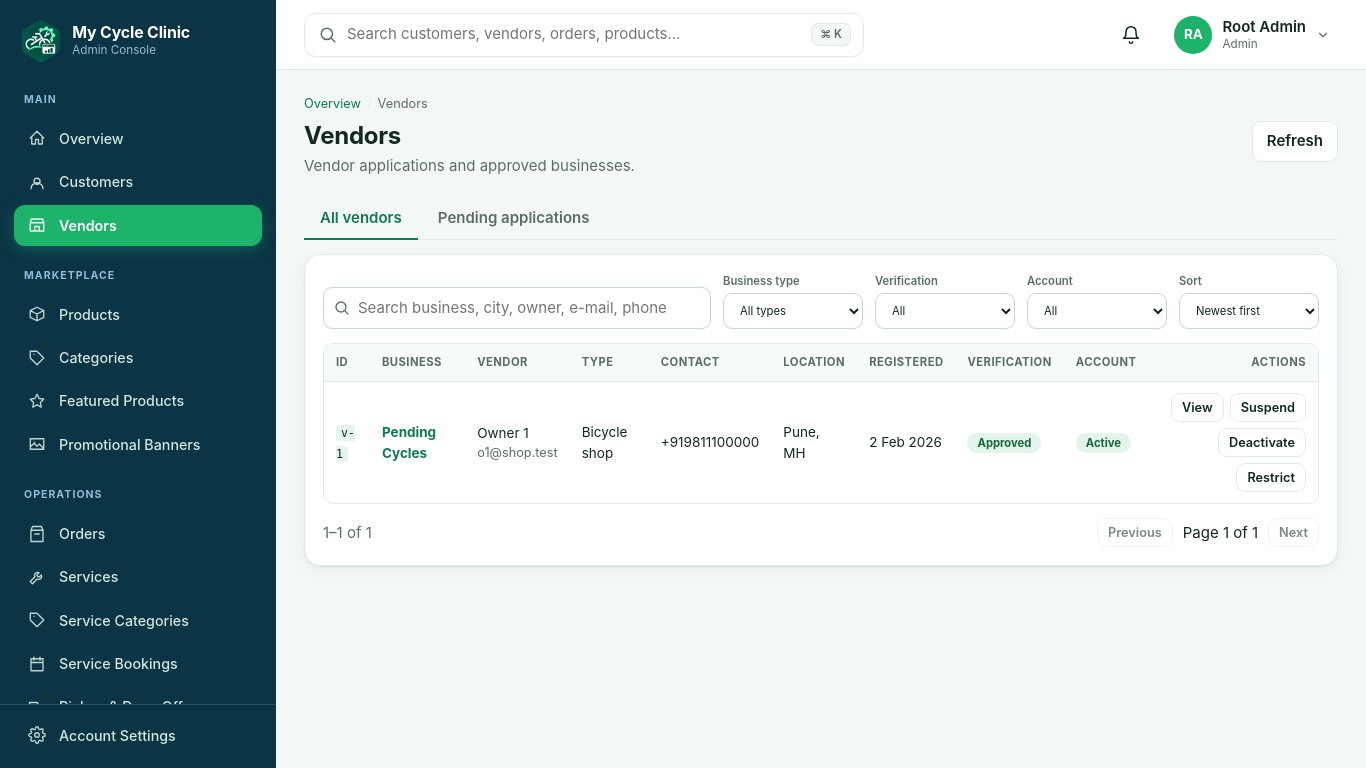
Test: vendor decisions › suspend needs a reason; a forbidden answer is surfaced, not hidden
This screenshot has width=1366, height=768.
Click the button "Suspend": (1268,407) [1230,393,1306,422]
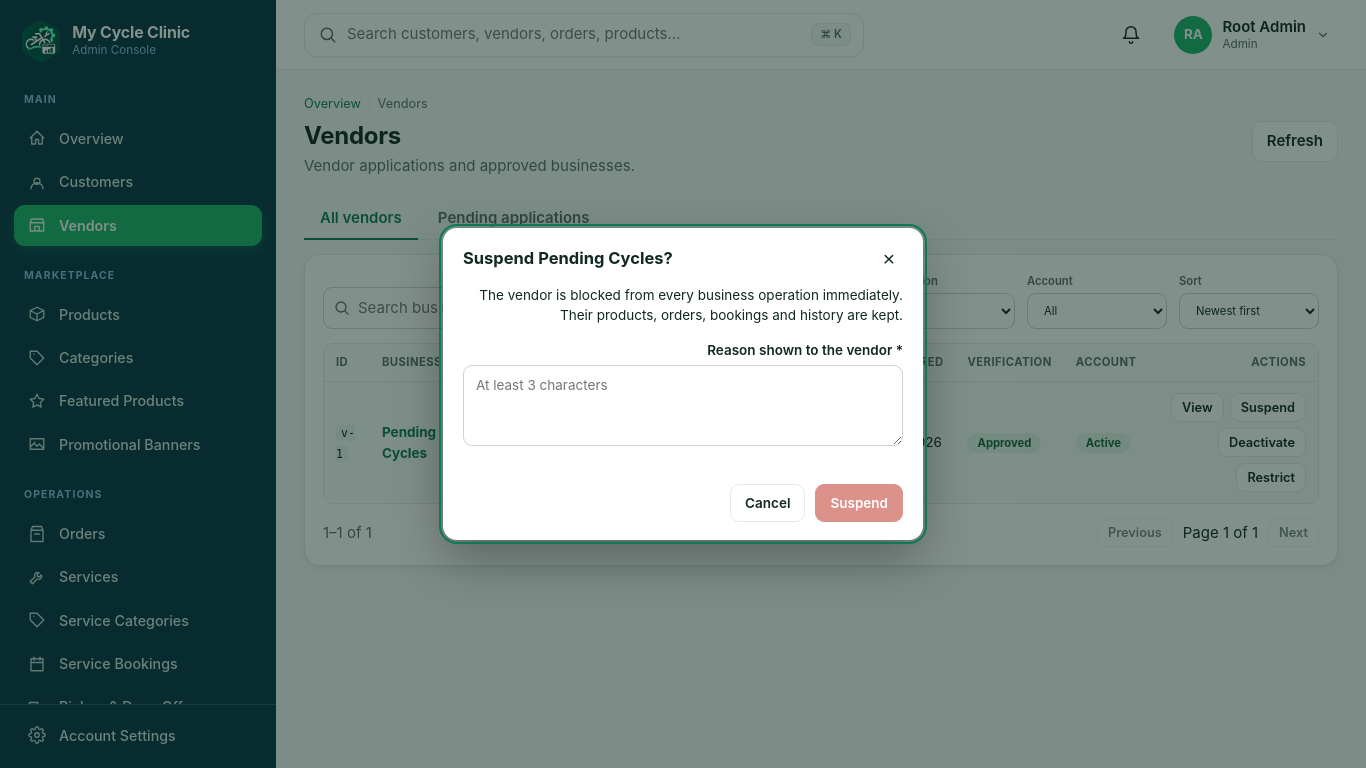
Expected: the button "Suspend" below "Reason shown to the vendor" is disabled, [815,484,903,522]
In the text box labelled "Reason shown to the vendor *": (683,405) [463,365,903,446], type "Counterfeit parts"
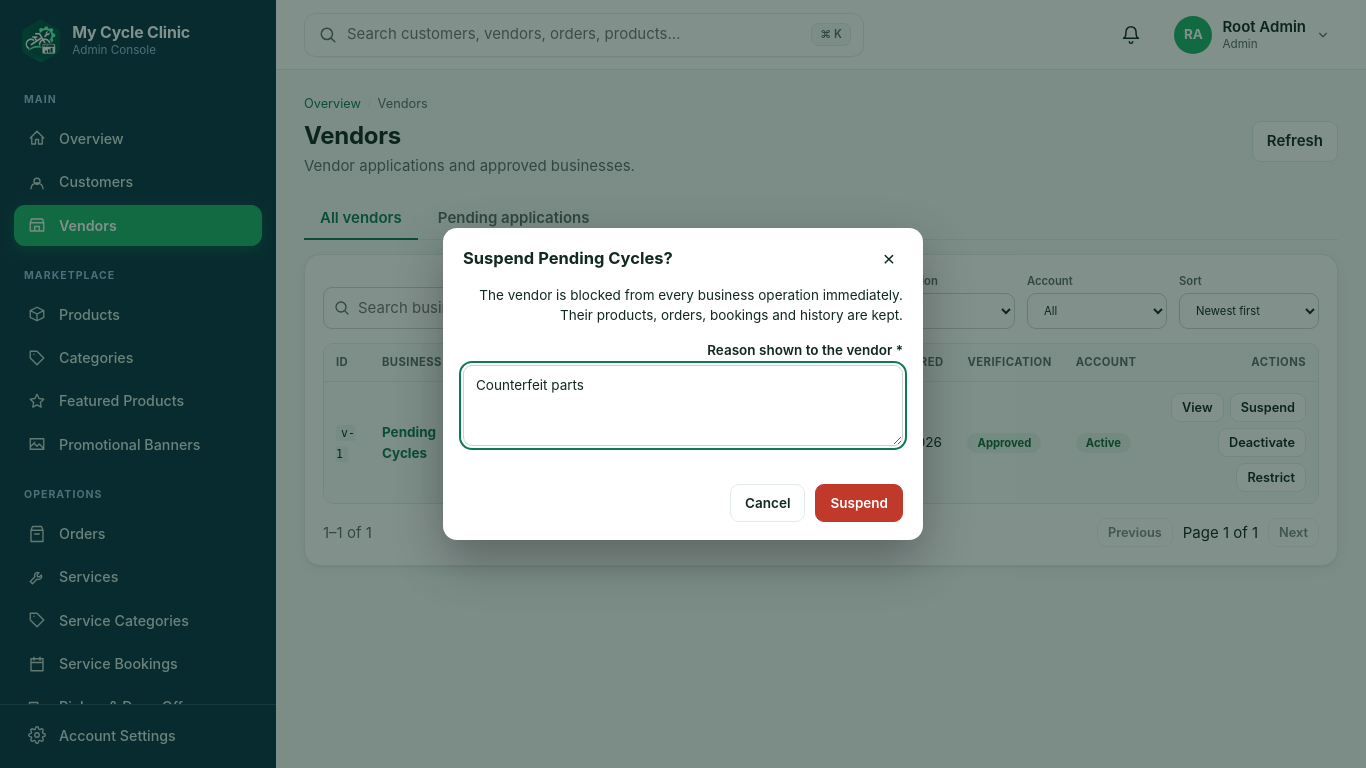
Click the button "Suspend" below "Reason shown to the vendor": (859,503) [815,484,903,522]
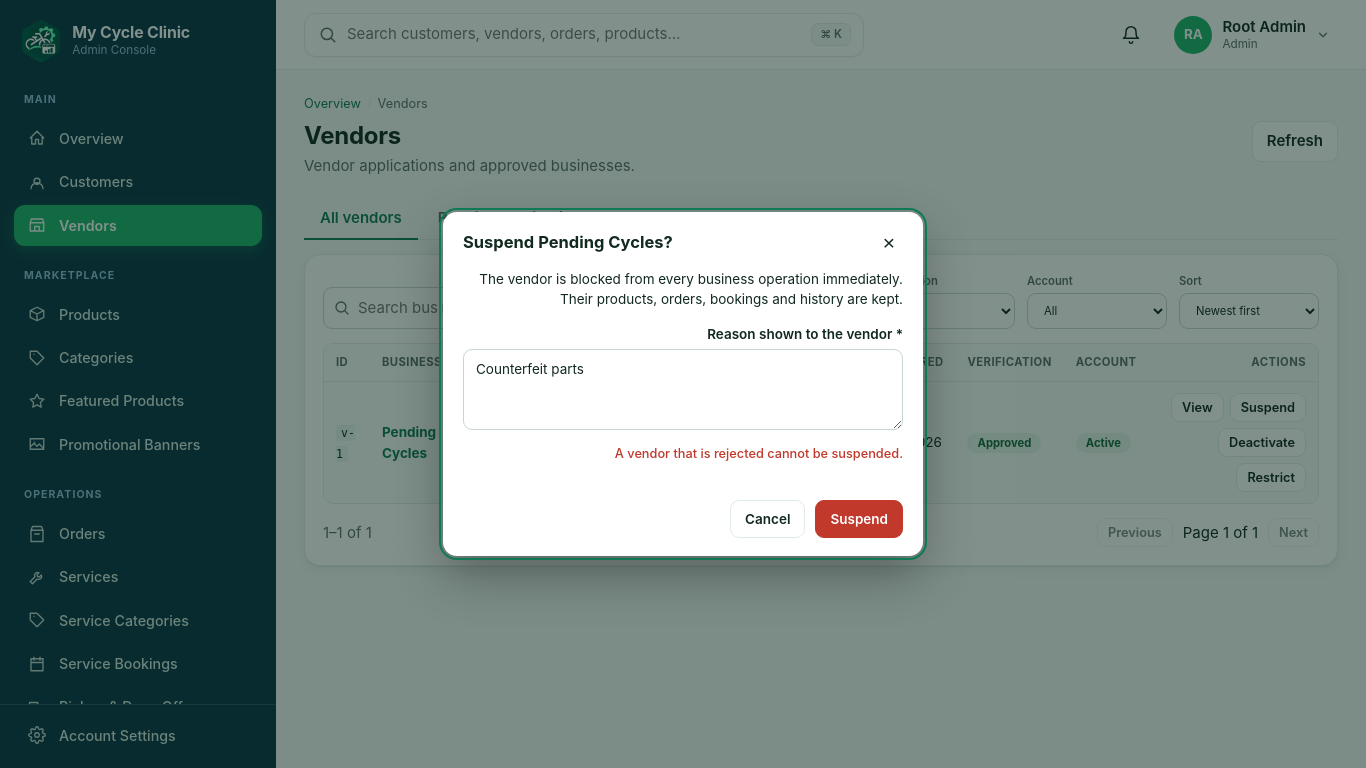
Expected: the text "A vendor that is rejected cannot be suspended." is shown, [615,446,903,461]
